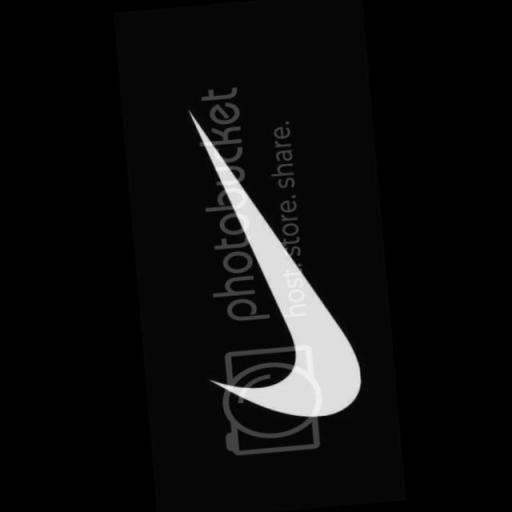Nike: (186, 96, 364, 428)
